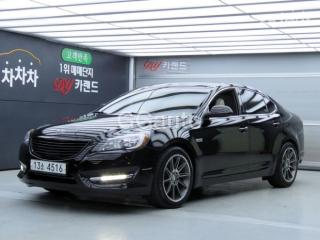1: (54, 163, 59, 172), (33, 161, 37, 170)
3: (37, 161, 41, 170)
4: (47, 163, 51, 171)
5: (51, 163, 56, 172)
6: (59, 165, 63, 173)
plate: (27, 157, 71, 177)
소: (41, 163, 45, 171)
